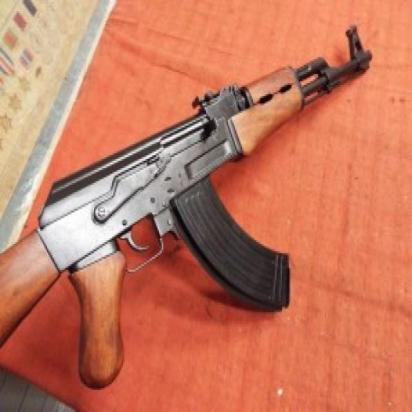Gun: (1, 33, 370, 367)
